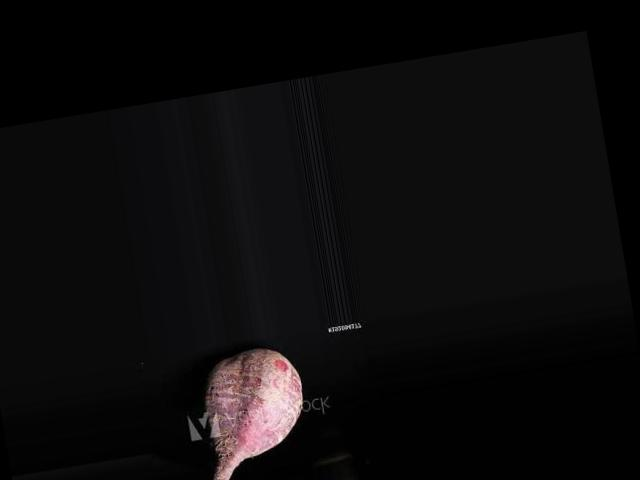beet: (191, 343, 318, 480)
